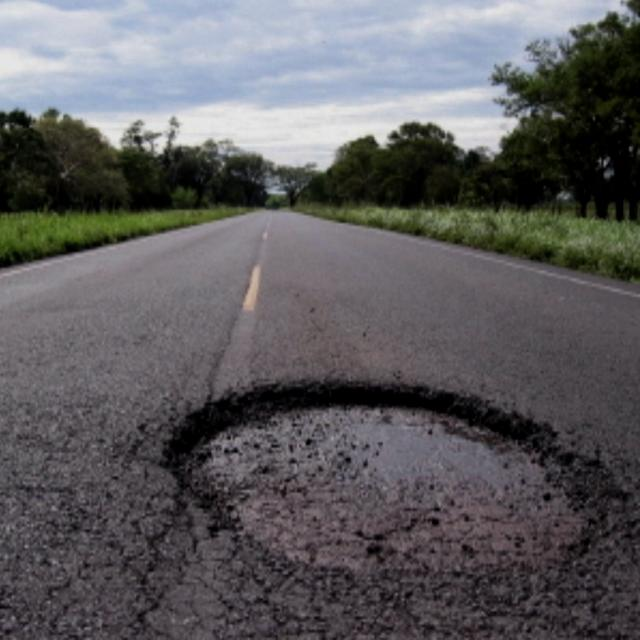Pothole: (129, 336, 639, 640)
